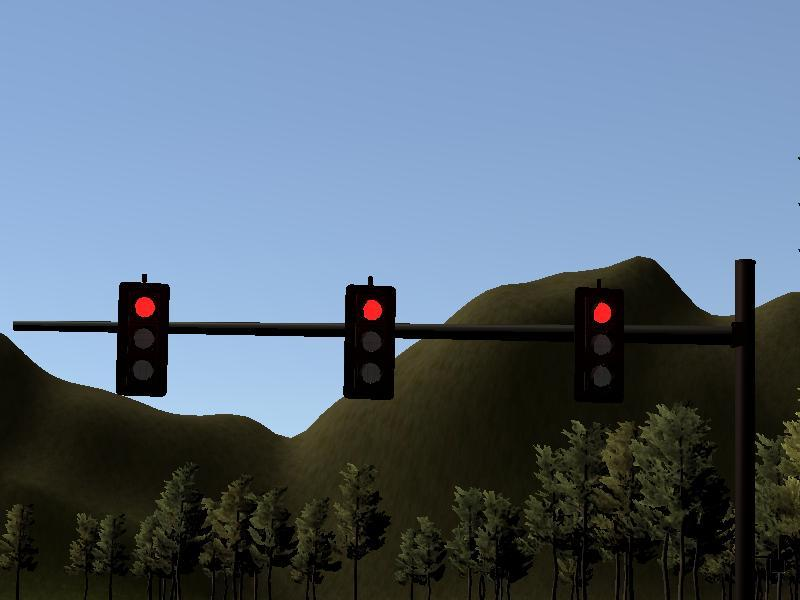Red: (574, 287, 627, 402), (343, 285, 394, 398), (117, 282, 167, 396)
